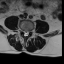CCS_stenosis: (25, 30, 27, 37)
LFS_severe_stenosis: (28, 28, 31, 33)
LLS_normal: (27, 30, 28, 36)
RFS_stenosis: (21, 28, 23, 33)
RLS_normal: (23, 29, 25, 36)
